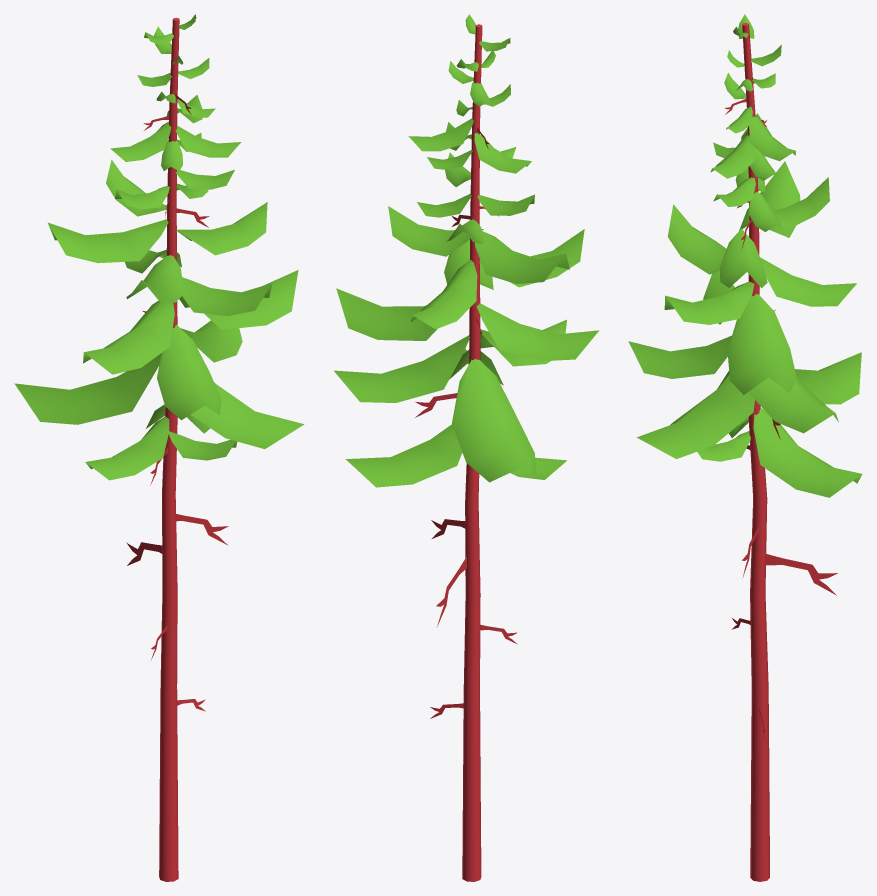
The model's file is PruceTree_2.fbx.
3 views of the same model, side by side, from view 1: azimuth 30°, elevation 25°; view 2: azimuth 150°, elevation 25°; view 3: azimuth 270°, elevation 25° (orthographic). The views are drawn at different scales.
Visible parts, largest first — view 1: Plane.001, Cylinder.001, Plane.002; view 2: Plane.001, Cylinder.001, Plane.002; view 3: Plane.001, Cylinder.001, Plane.002.
Part boxes in pixels (x1,y1,x2,y2): Plane.001: (14, 14, 304, 480); Cylinder.001: (159, 18, 179, 881); Plane.002: (126, 94, 228, 711); Plane.001: (334, 14, 598, 487); Cylinder.001: (462, 24, 482, 881); Plane.002: (415, 104, 517, 718); Plane.001: (628, 14, 862, 497); Cylinder.001: (742, 23, 769, 881); Plane.002: (724, 99, 837, 742).
Bounding box in the file's own units: 279 × 953 × 236.
